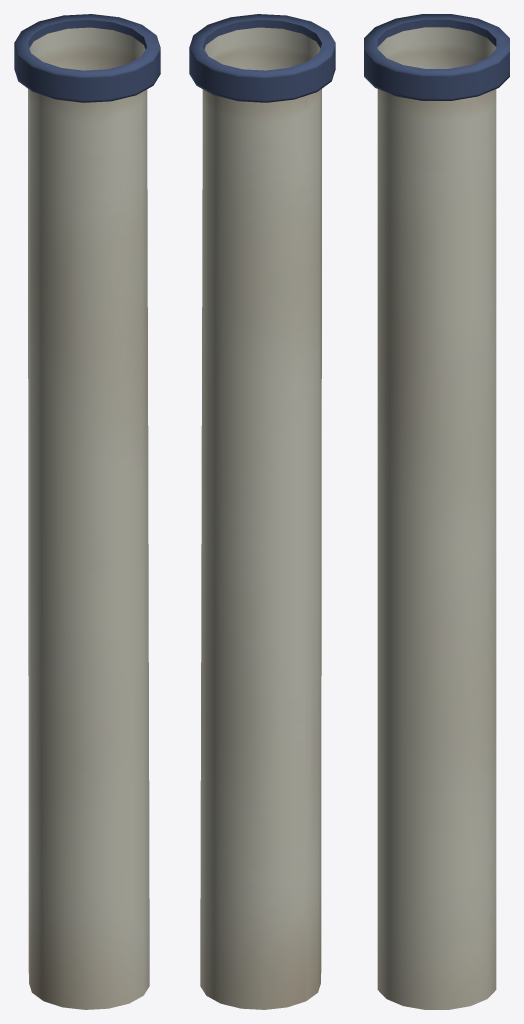
File: SiloPipe.fbx
3 renders of one model, left to right at view 1: azimuth 30°, elevation 25°; view 2: azimuth 150°, elevation 25°; view 3: azimuth 270°, elevation 25°, orthographic.
Visible parts, largest first — view 1: SiloPipe; view 2: SiloPipe; view 3: SiloPipe.
Part boxes in pixels (box(x1,y1,x2,y2)): SiloPipe: box(14, 14, 160, 1009); SiloPipe: box(189, 14, 335, 1009); SiloPipe: box(364, 14, 509, 1009).
Size of the model in its own units: 185 by 1342 by 189.
